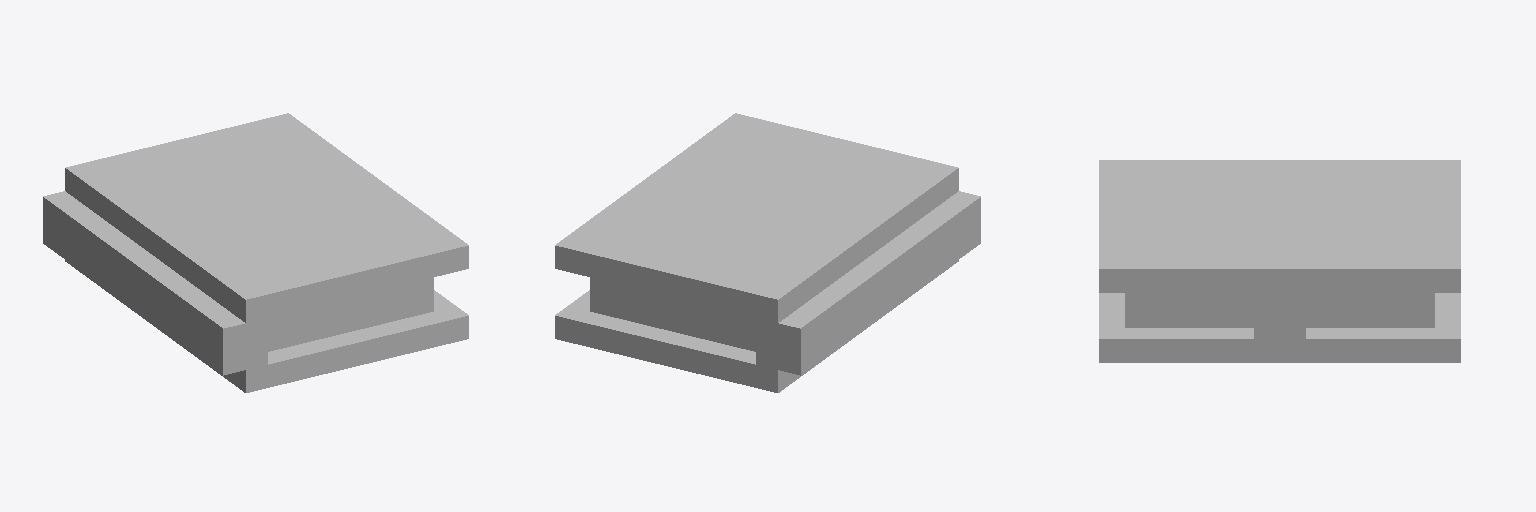
File: Book_1.obj
3 views of the same model, side by side, from view 1: azimuth 30°, elevation 25°; view 2: azimuth 150°, elevation 25°; view 3: azimuth 270°, elevation 25° (orthographic).
Visible parts, largest first — view 1: object 1; view 2: object 1; view 3: object 1.
Part boxes in pixels (x1,y1,x2,y2): object 1: (43,113,468,392); object 1: (555,113,980,392); object 1: (1099,160,1460,362).
Size of the model in its own units: 1.1 by 0.4 by 1.4.